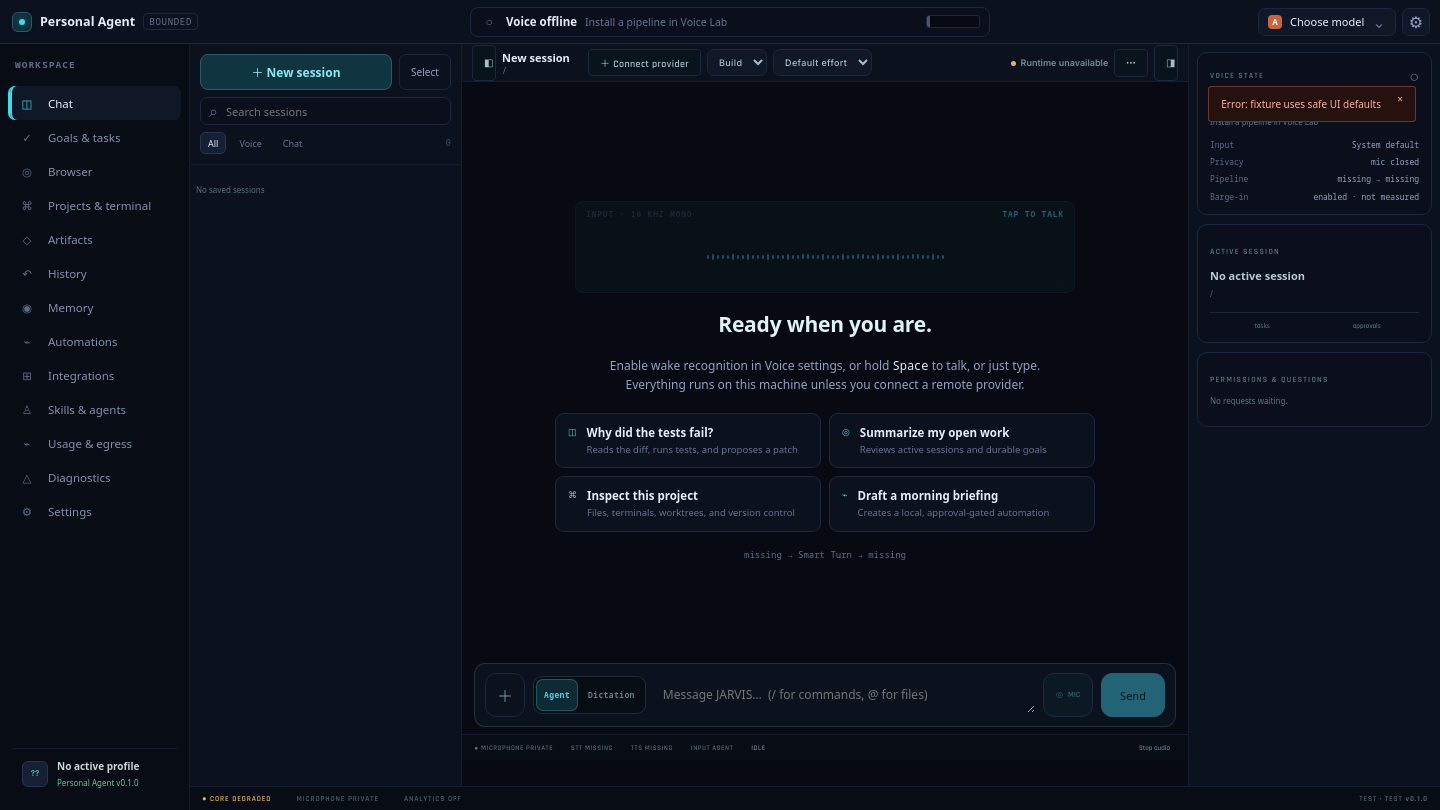
it: desktop workspace › neutralises injected markup in a streamed assistant reply
The image size is (1440, 810).
Type "Summarise" into the text box labelled "Message JARVIS" at (844, 695), box left=654, top=678, right=1035, bottom=712
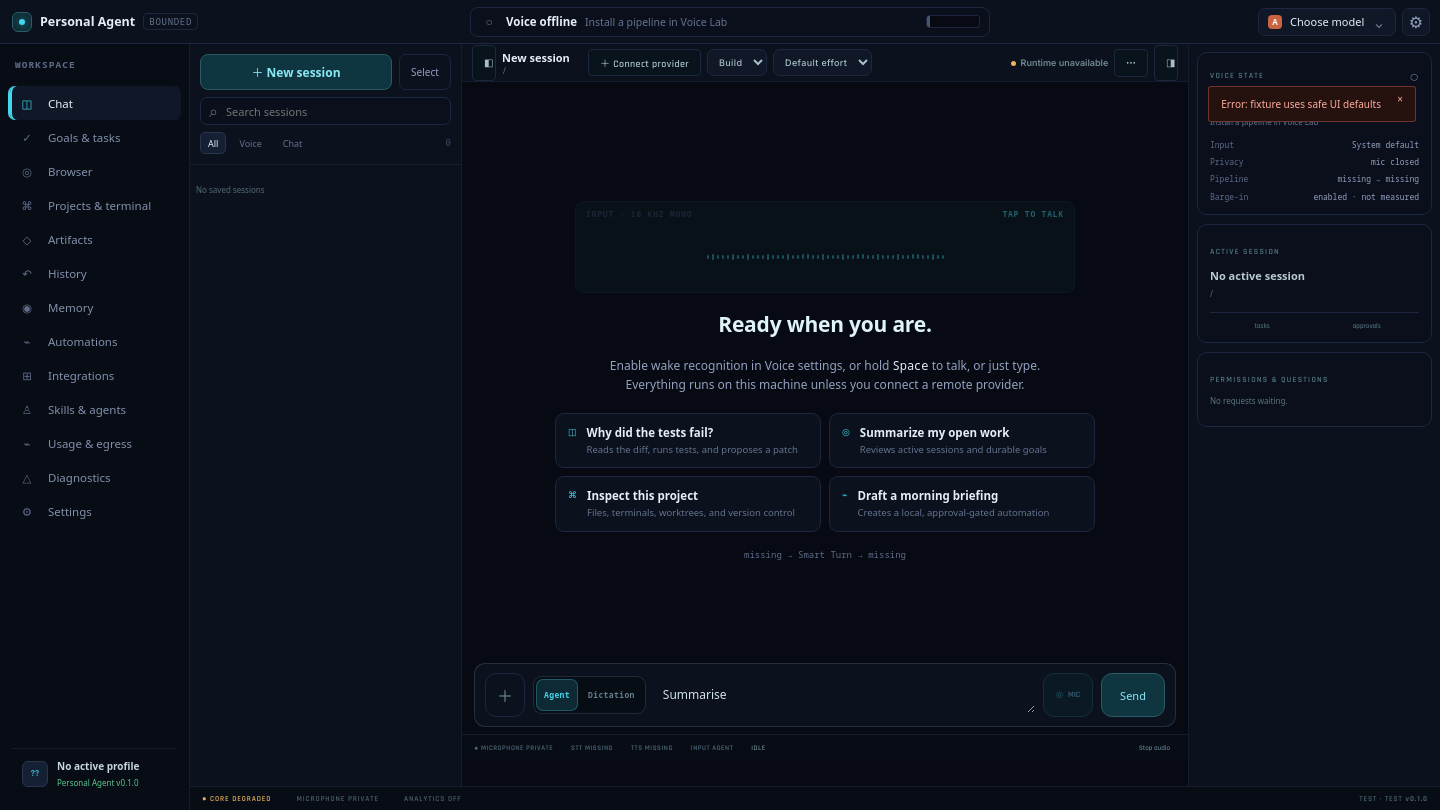
Click the button named "↑" at (1133, 695), box left=1101, top=673, right=1165, bottom=717
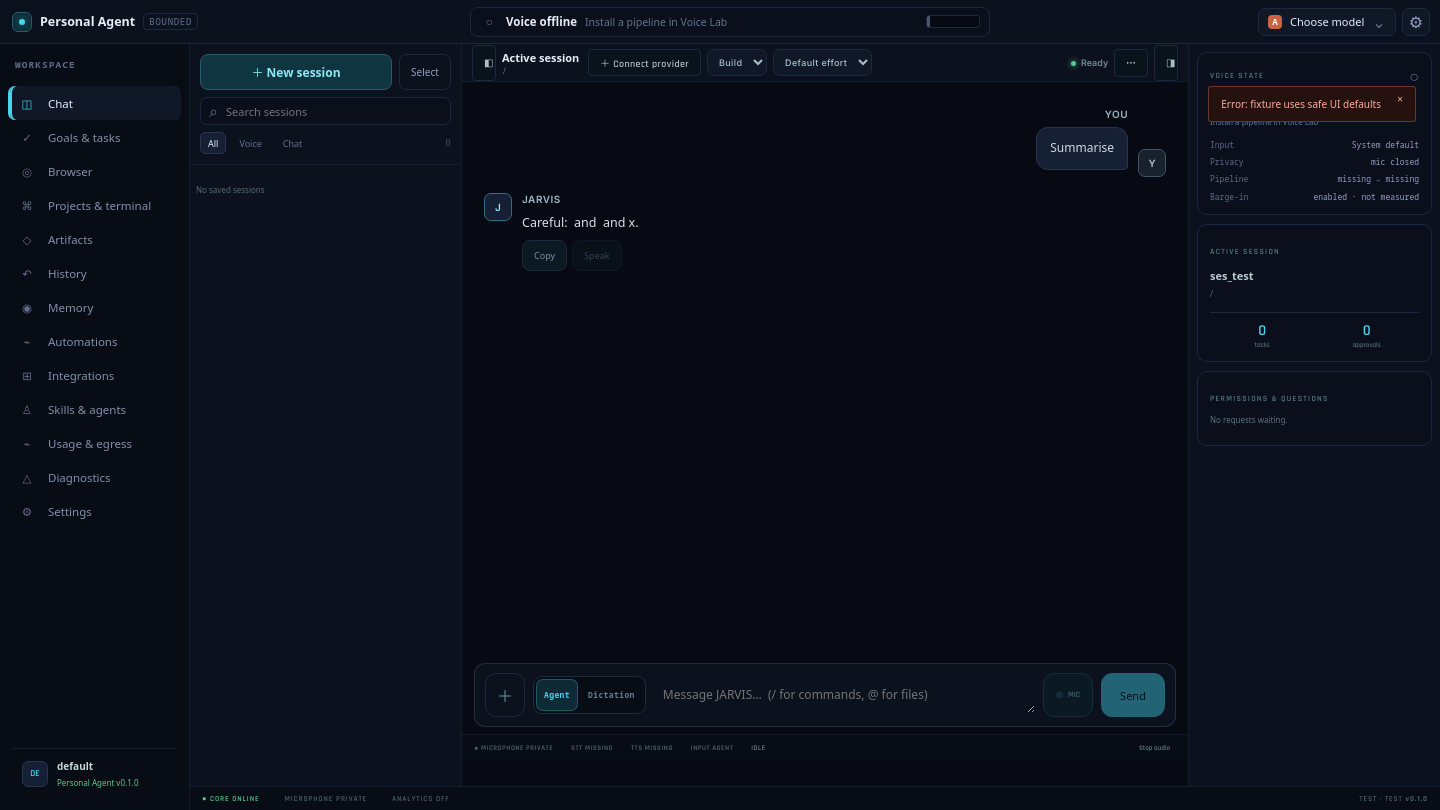
Expected: the element with class "markdown-body" is shown, left=522, top=214, right=639, bottom=231
Expected: the text "x" is shown, left=629, top=214, right=635, bottom=231
